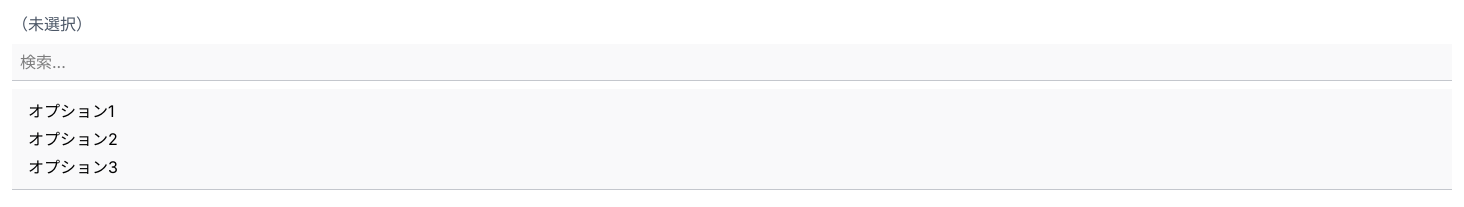
Test: SelectableSearch › 検索条件で絞り込みができる
The width and height of the screenshot is (1464, 207).
Type "オプション1" into the field with placeholder "検索..." at (732, 62), box 12,44 -> 1452,81
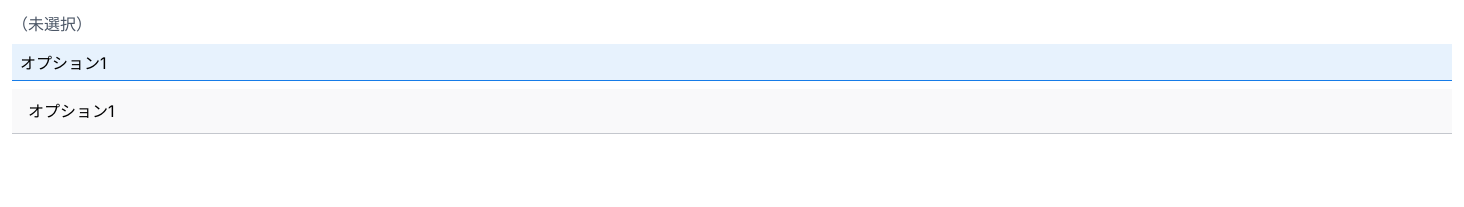
Expected: the text "オプション1" is shown, 28,101 -> 114,121
Now the text "オプション2" is gone
Now the text "オプション3" is gone
